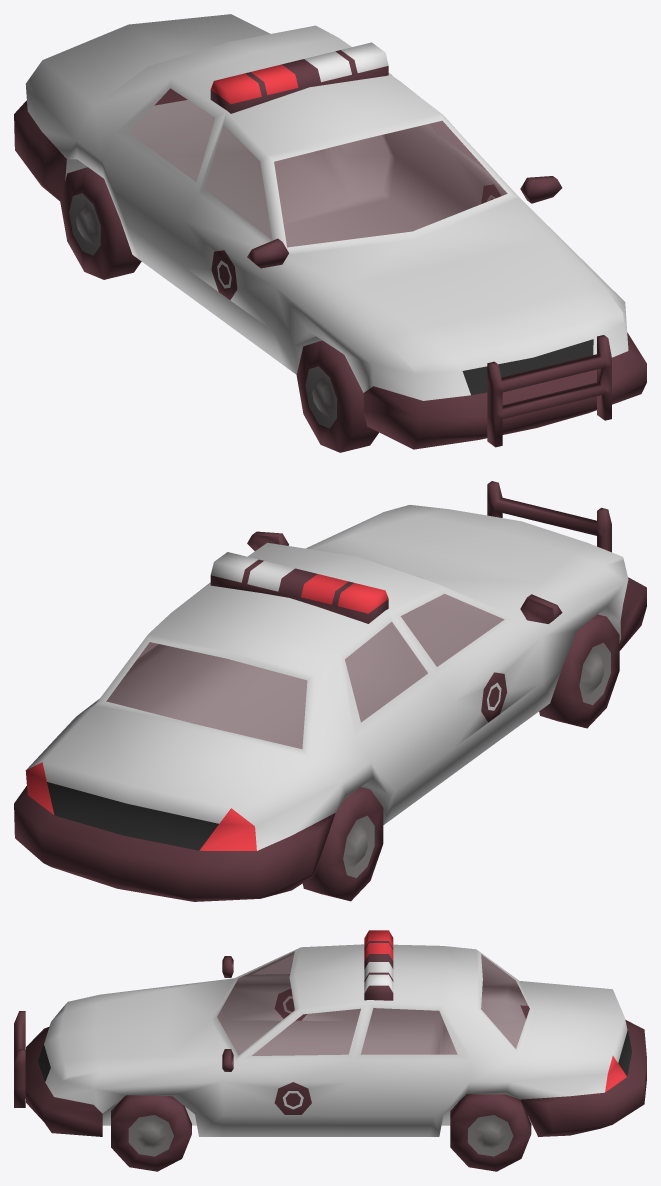
File: car-police.fbx
3 renders of one model, top to bottom at view 1: azimuth 30°, elevation 25°; view 2: azimuth 150°, elevation 25°; view 3: azimuth 270°, elevation 25°, orthographic. The views are drawn at different scales.
Parts seen in each view (by area): view 1: car-police-base, car-police-wheel_FR, car-police-wheel_BR; view 2: car-police-base, car-police-wheel_BR, car-police-wheel_FR; view 3: car-police-base, car-police-wheel_BL, car-police-wheel_FL.
Boxes of the visible parts, <box> form: car-police-base: <box>14,14,646,449</box>; car-police-wheel_FR: <box>296,340,378,452</box>; car-police-wheel_BR: <box>60,167,141,279</box>; car-police-base: <box>14,481,646,901</box>; car-police-wheel_BR: <box>302,787,383,901</box>; car-police-wheel_FR: <box>539,614,619,728</box>; car-police-base: <box>14,930,646,1136</box>; car-police-wheel_BL: <box>450,1094,531,1171</box>; car-police-wheel_FL: <box>111,1095,191,1171</box>.
Bounding box in the file's own units: 219 × 159 × 544.
